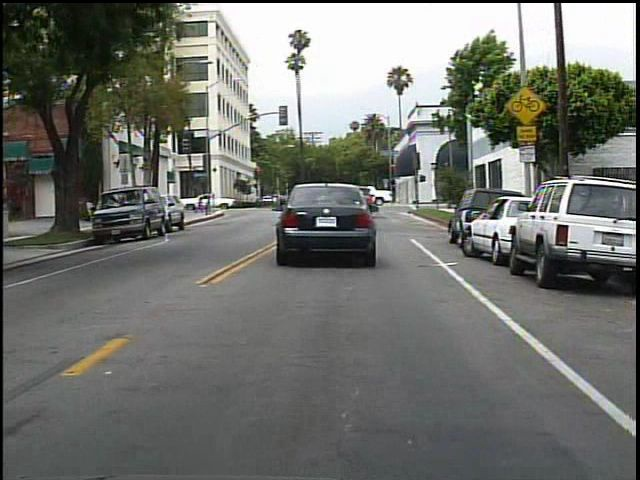person: (196, 192, 206, 216)
